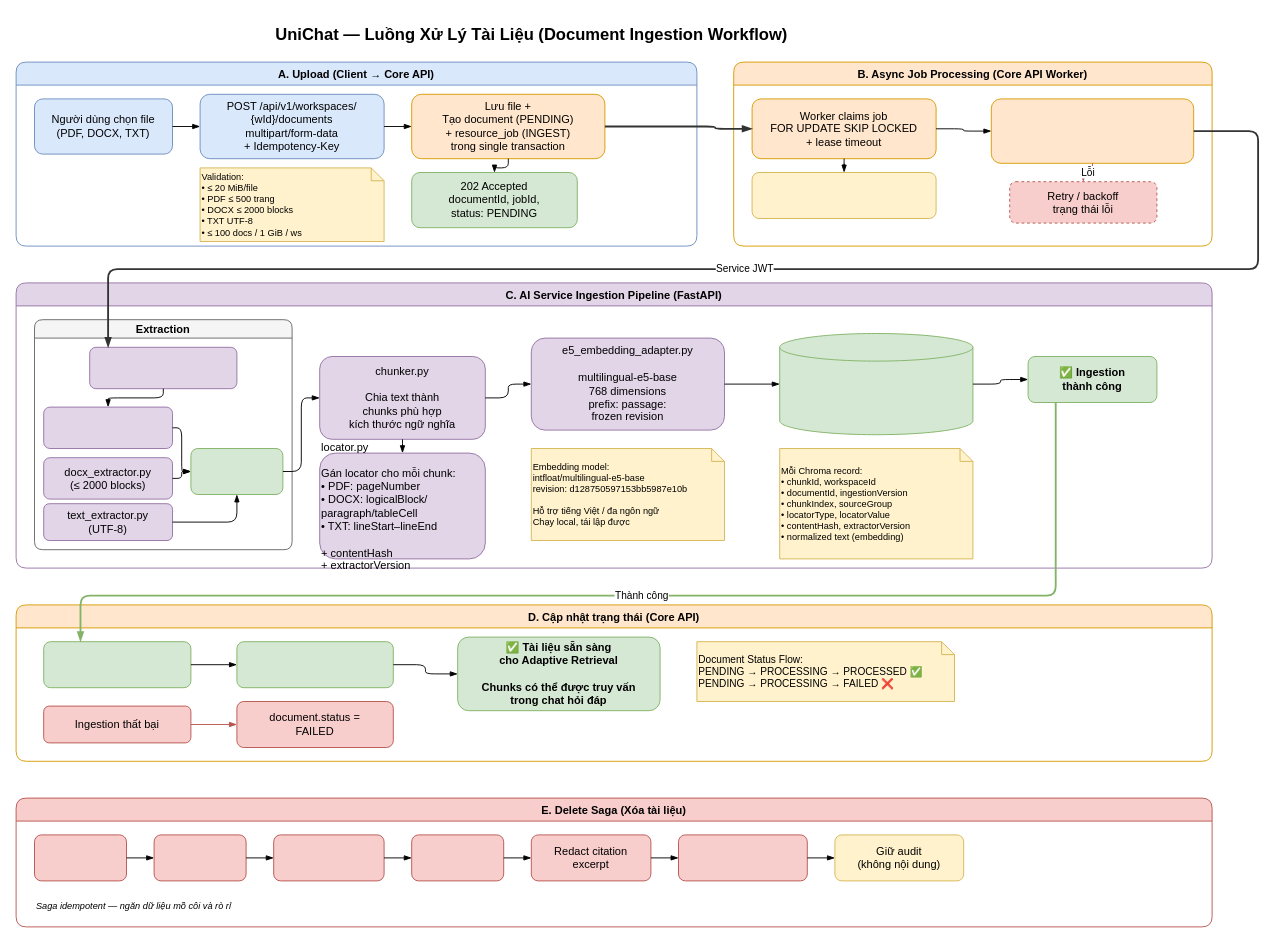
Some shapes in this 1282 by 943 pixel diagram are drawn without their labels. The shapes that lost their labels are listed below. From the top down, each one's centre as x and y in pixels, then its label:
(x=1092, y=130): Gọi AI Service POST /internal/v1/ingestions + Service JWT (idempotent)
(x=843, y=195): Document status: PENDING → PROCESSING
(x=163, y=367): Phát hiện loại file (mediaType)
(x=876, y=384): chroma_adapter.py Upsert vào ChromaDB unichat_chunks_v1 (cosine, 768d)
(x=107, y=427): pdf_extractor.py (≤ 500 trang)
(x=236, y=471): Structured text output
(x=117, y=664): Ingestion thành công
(x=314, y=664): document.status = PROCESSED
(x=80, y=857): Mark DELETING
(x=199, y=857): Revoke retrieval
(x=328, y=857): Xóa vector (ChromaDB)
(x=457, y=857): Xóa file (storage)
(x=742, y=857): Hard delete content metadata
